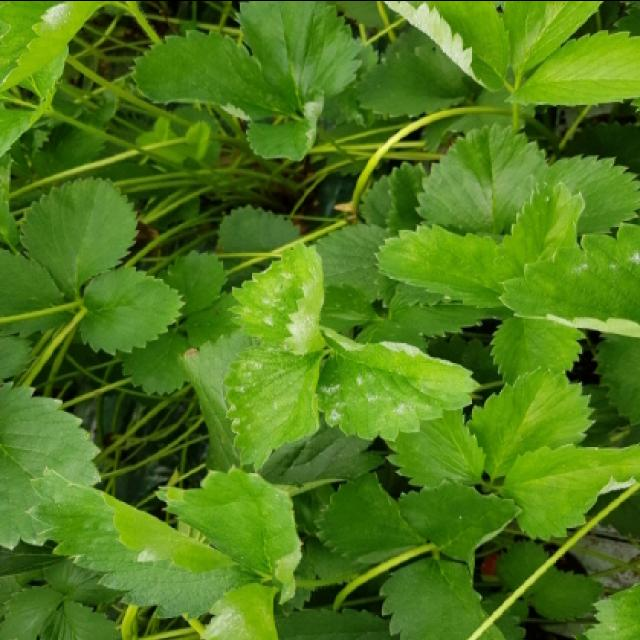Powdery Mildew Leaf: (317, 323, 482, 441), (495, 220, 638, 339), (224, 336, 327, 473), (382, 2, 512, 92), (0, 2, 121, 98), (226, 242, 324, 353), (246, 91, 326, 163), (204, 581, 280, 640)
